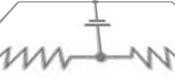resistor: (0, 41, 70, 71), (119, 40, 171, 72)
